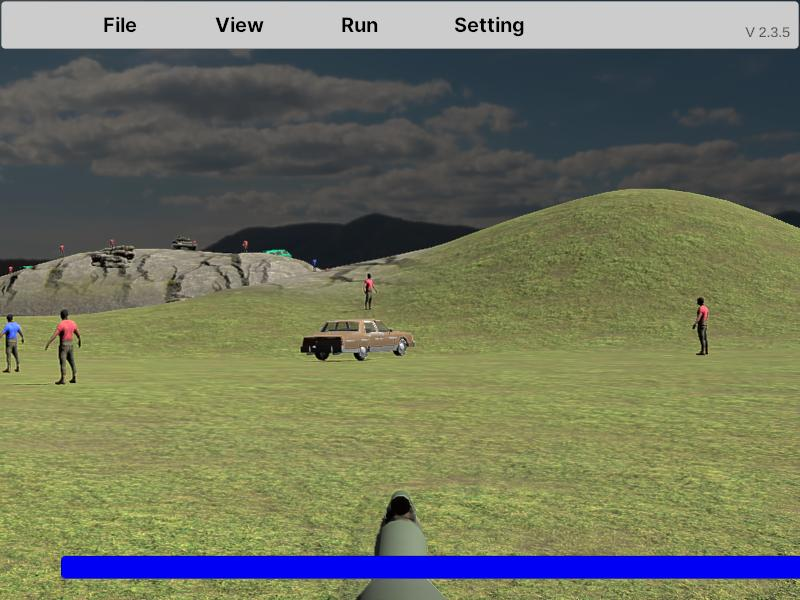Human: (46, 308, 82, 384), (0, 313, 24, 373), (692, 296, 709, 356), (363, 272, 377, 310)
car: (301, 319, 415, 361)
